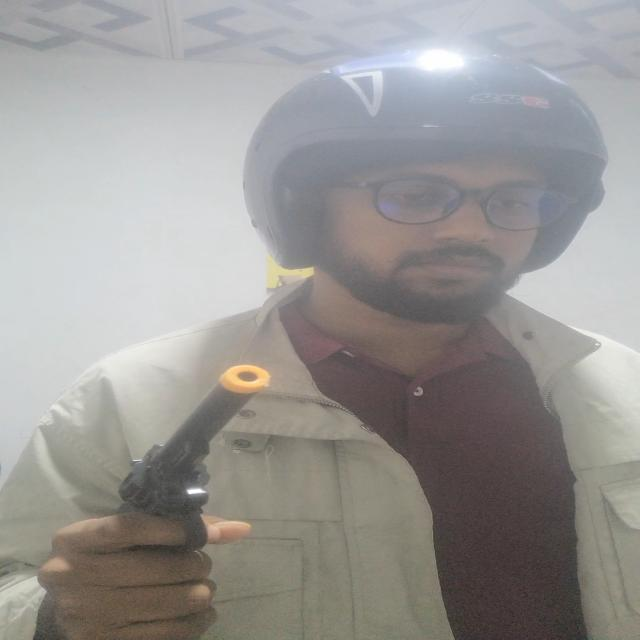Gun_Holder: (54, 359, 278, 638)
Helmet_Wearer: (213, 44, 628, 328)
Jacket_Wearer: (0, 301, 640, 640)
Person: (0, 41, 640, 640)
